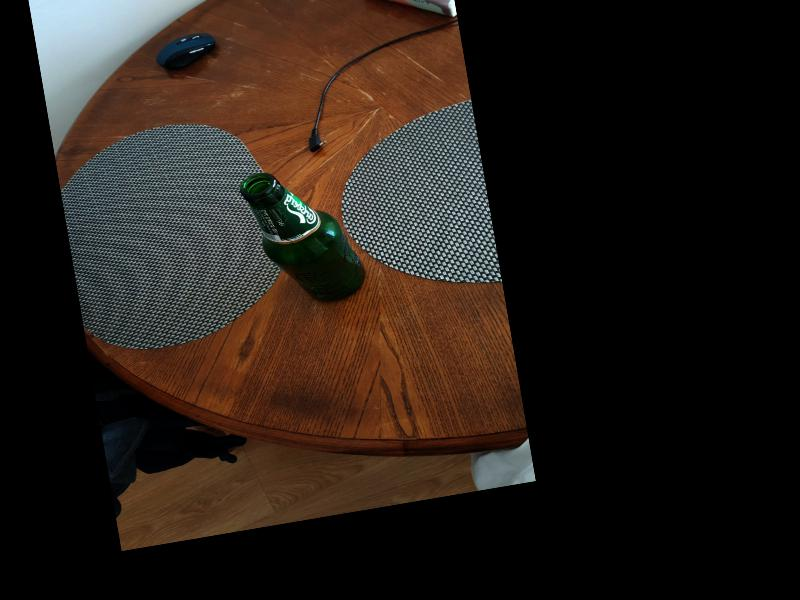Beer: (236, 158, 374, 316)
